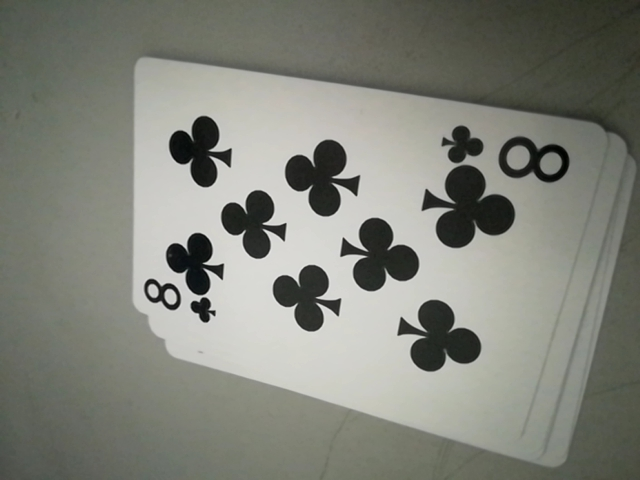mh 8: (438, 122, 576, 181), (138, 275, 216, 329)
